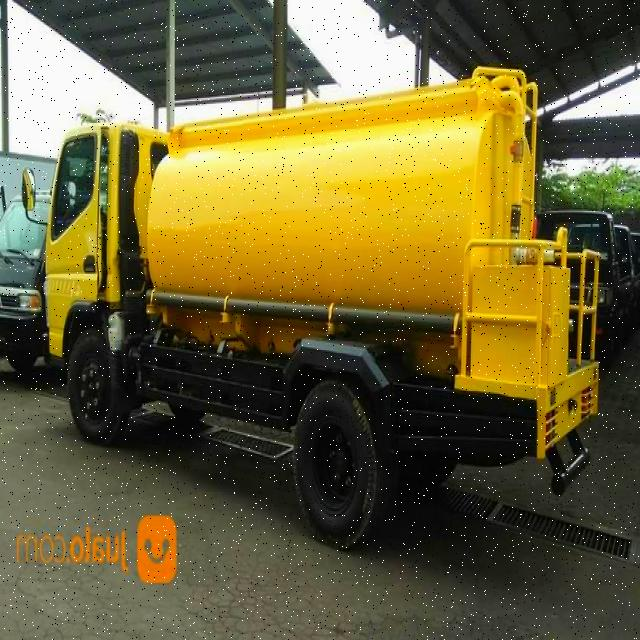truck: (23, 60, 608, 546)
